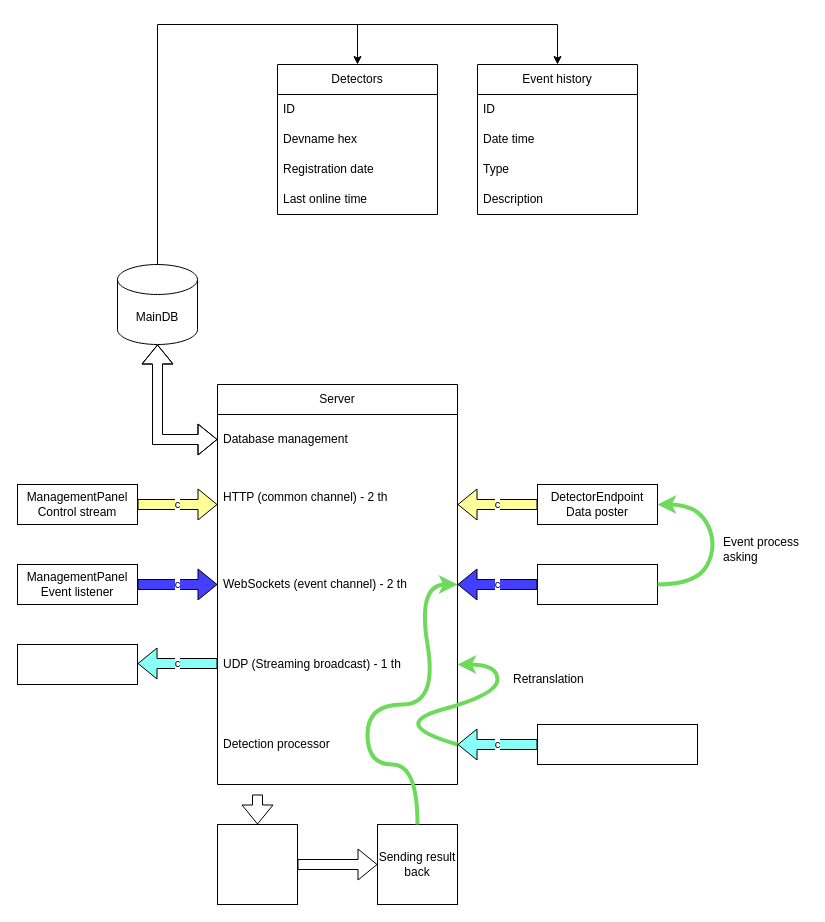
The diagram is 825 pixels wide and 922 high, and some of its shapes have lost their labels. The centre of each missing label's shape, as x and y in pixels:
"DetectorEndpoint Camera view streamer" goes at (x=617, y=744).
"DetectorEndpoint Event listener" goes at (x=597, y=584).
"ManagementPanel Translation listener" goes at (x=77, y=664).
"Processing images using server resources" goes at (x=257, y=864).
